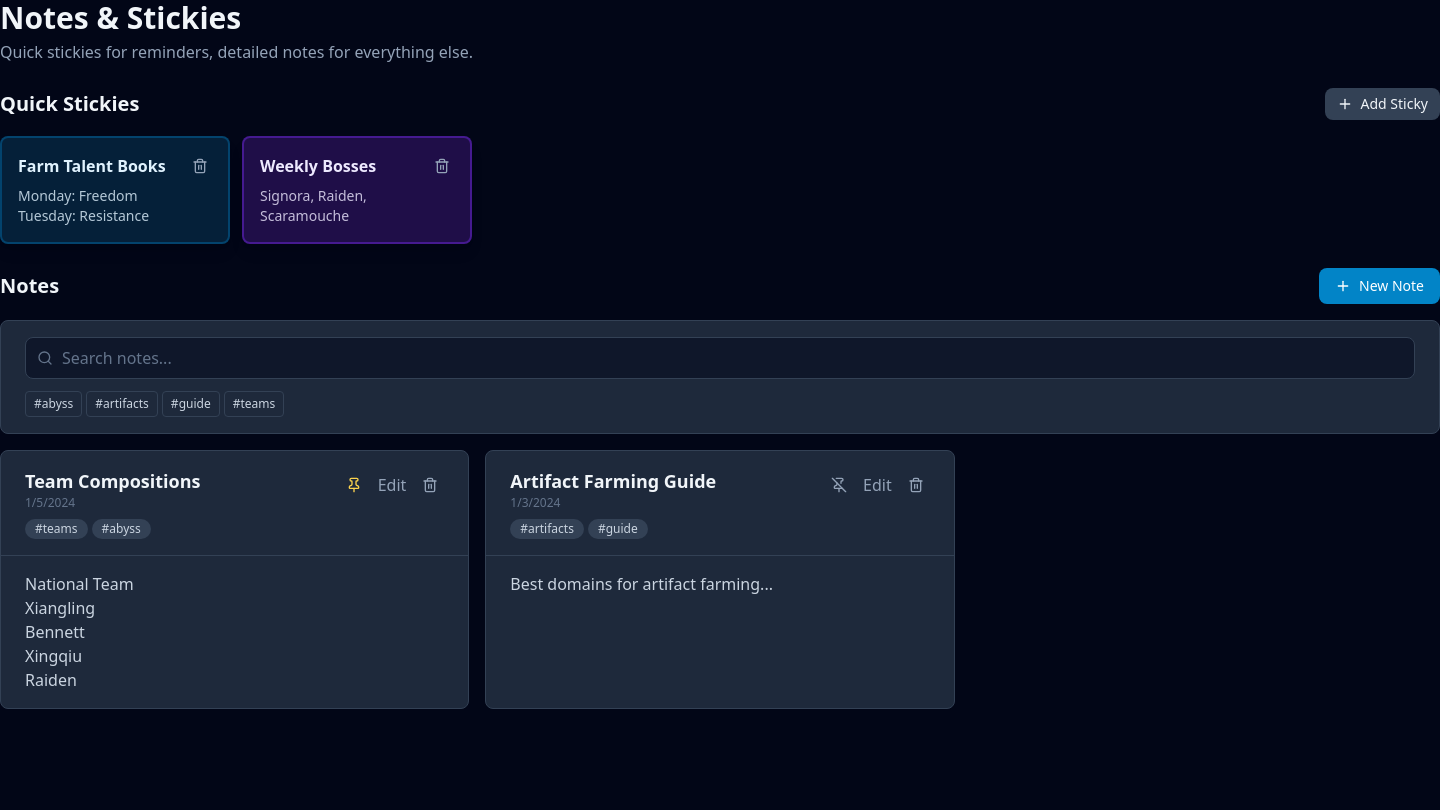
NotesPage › note interactions › opens note modal when new note button is clicked
Click the button "New Note" at [1380, 286], box 1319,268 -> 1439,304
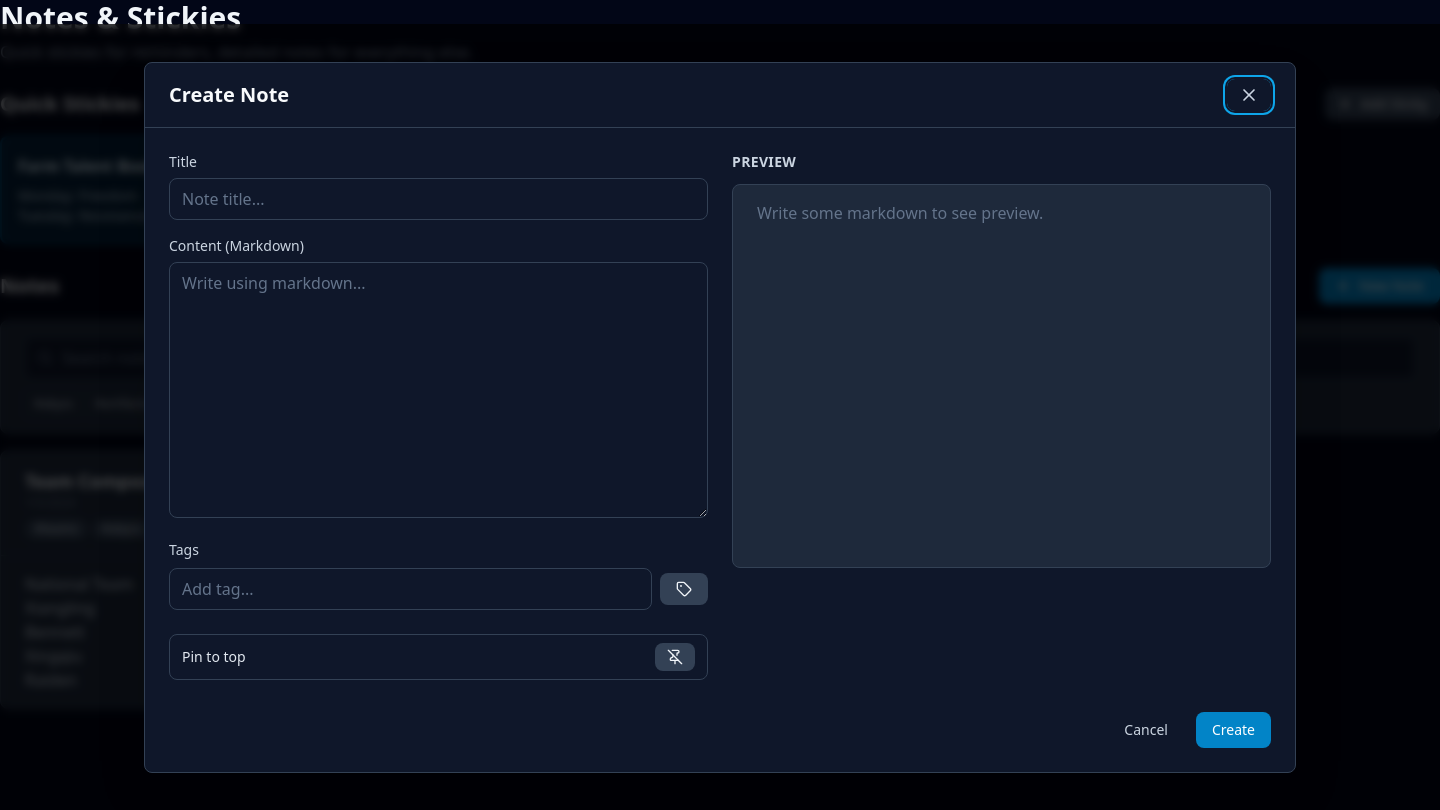
Now the dialog is shown
Now the heading "Create Note" is shown, box 169,80 -> 289,108
